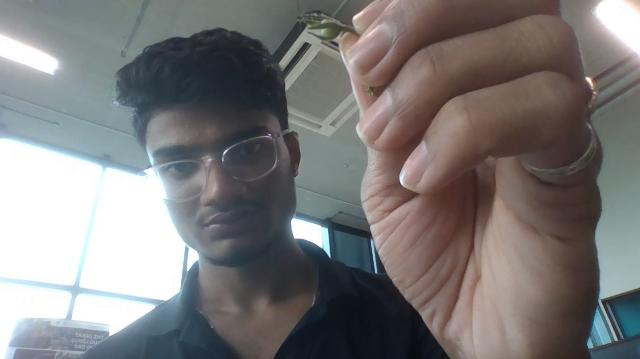Fruit Bud: (301, 20, 356, 41), (300, 15, 345, 40), (336, 23, 359, 36)
